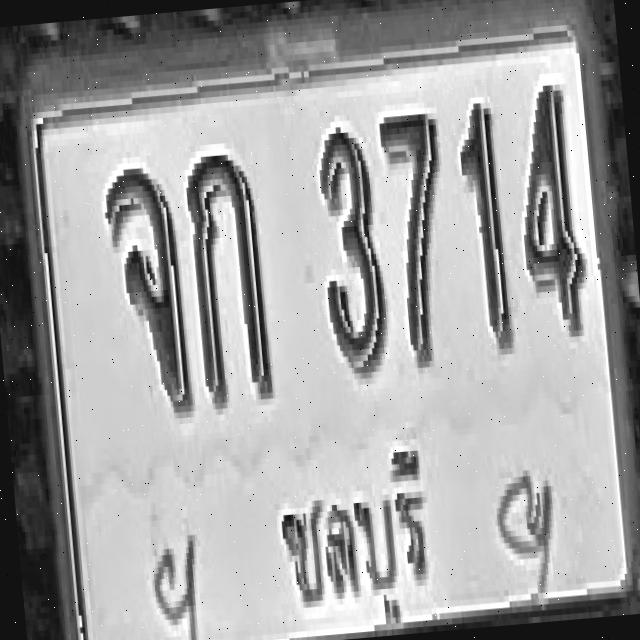1: (456, 99, 514, 354)
10GorGai: (182, 146, 272, 404)
17ChorChan: (100, 159, 193, 417)
3: (313, 121, 391, 378)
4: (510, 80, 588, 337)
7: (378, 106, 456, 368)
Chonburi: (264, 427, 452, 640)
